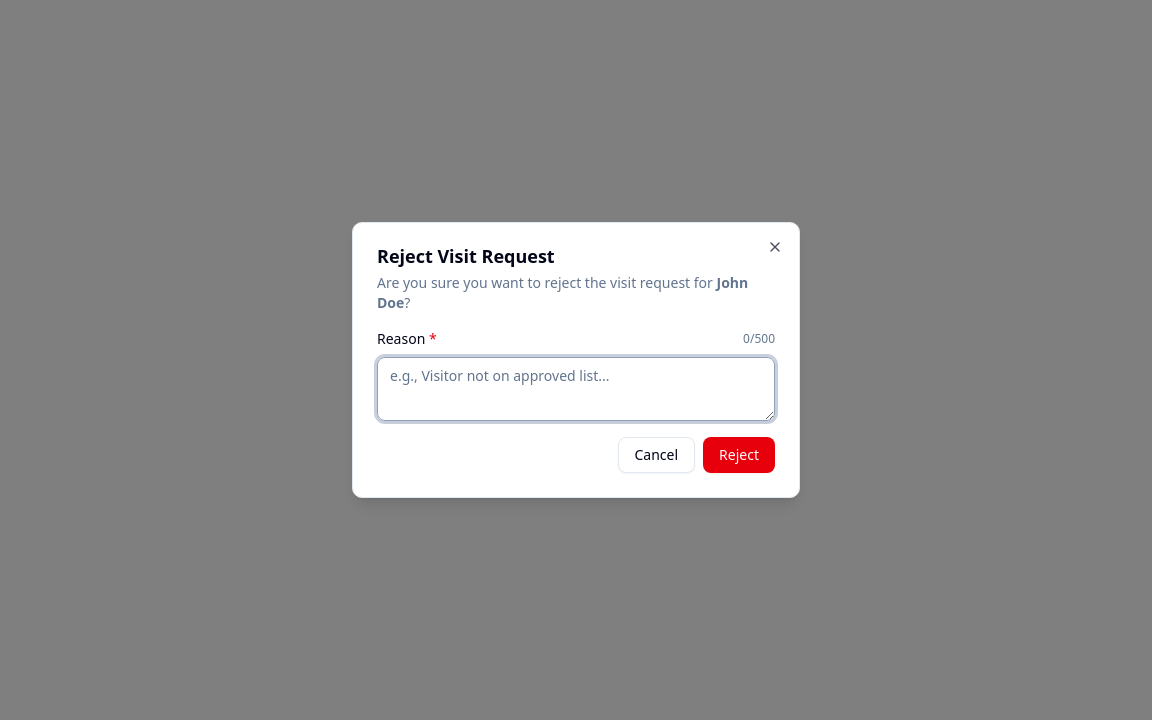
Test: RejectVisitDialog › Validation › should show error for reason less than 5 characters
Type "No" into the text box at {"x": 576, "y": 389}, box [377, 357, 775, 421]
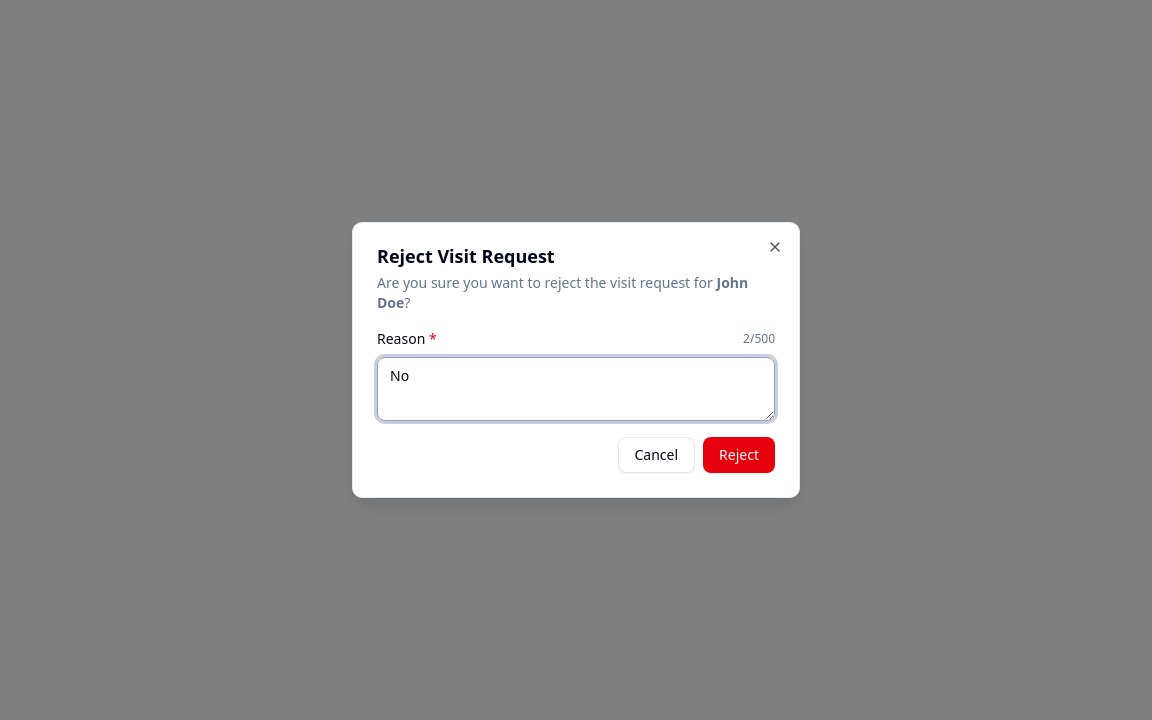
Click the button "Reject" at {"x": 739, "y": 455}, box [703, 437, 775, 473]
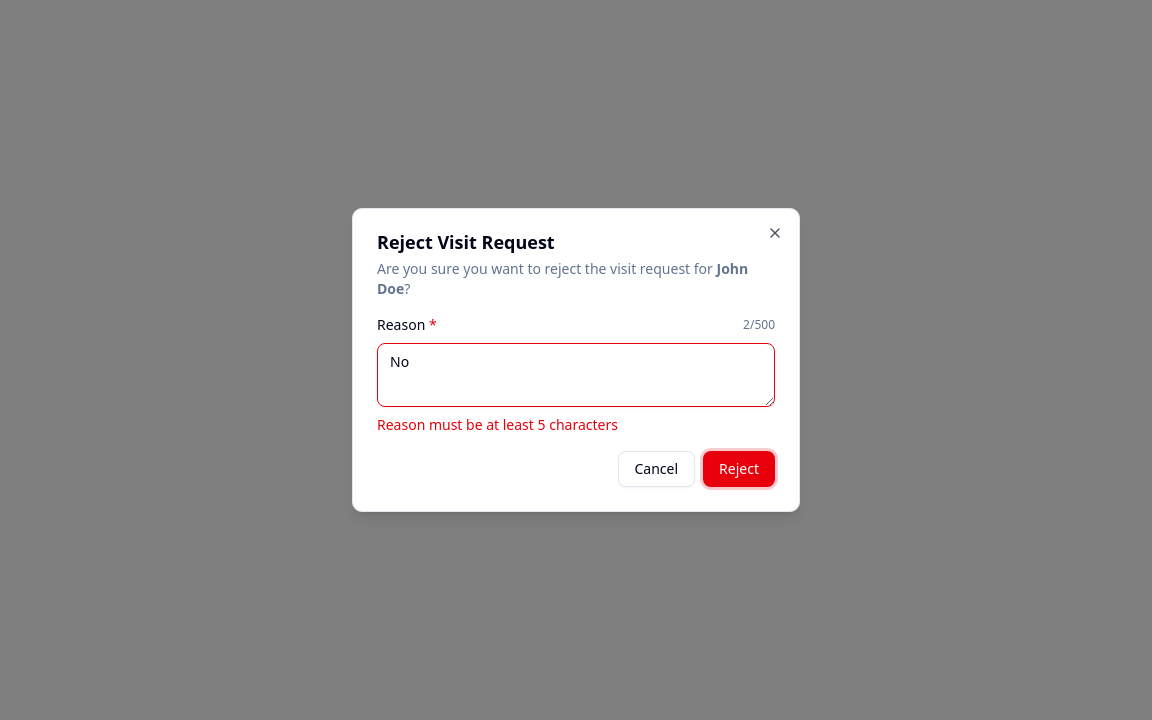
Now the text "Reason must be at least 5 characters" is shown, box [377, 415, 618, 434]
